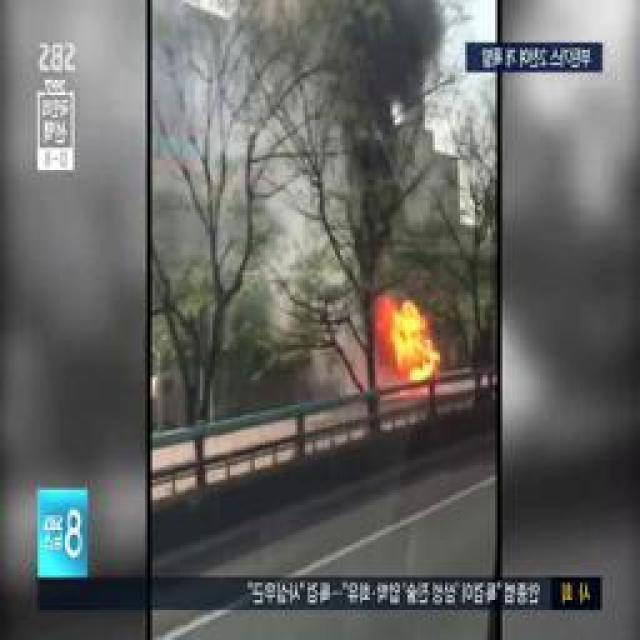Fire: (369, 292, 448, 377)
